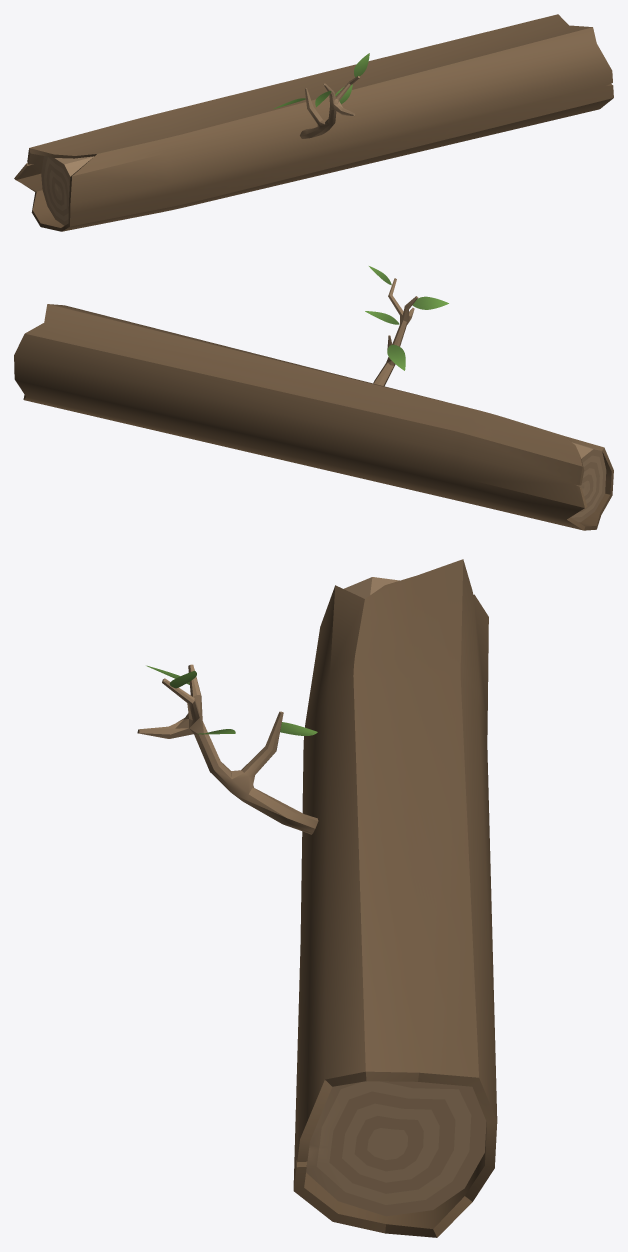
The model's file is Log_01.fbx.
3 views of the same model, one above another, from view 1: azimuth 30°, elevation 25°; view 2: azimuth 150°, elevation 25°; view 3: azimuth 270°, elevation 25° (orthographic). The views are drawn at different scales.
Visible parts, largest first — view 1: Log_01_LOD0; view 2: Log_01_LOD0; view 3: Log_01_LOD0.
Part boxes in pixels (<box>): Log_01_LOD0: <box>14,14,613,231</box>; Log_01_LOD0: <box>14,266,613,530</box>; Log_01_LOD0: <box>137,559,497,1237</box>.
Size of what is drawn, in the model's own units: 1.58 by 0.4276 by 0.4539.
